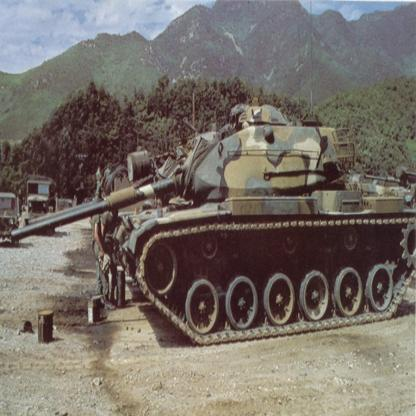Tank: (102, 121, 416, 341)
